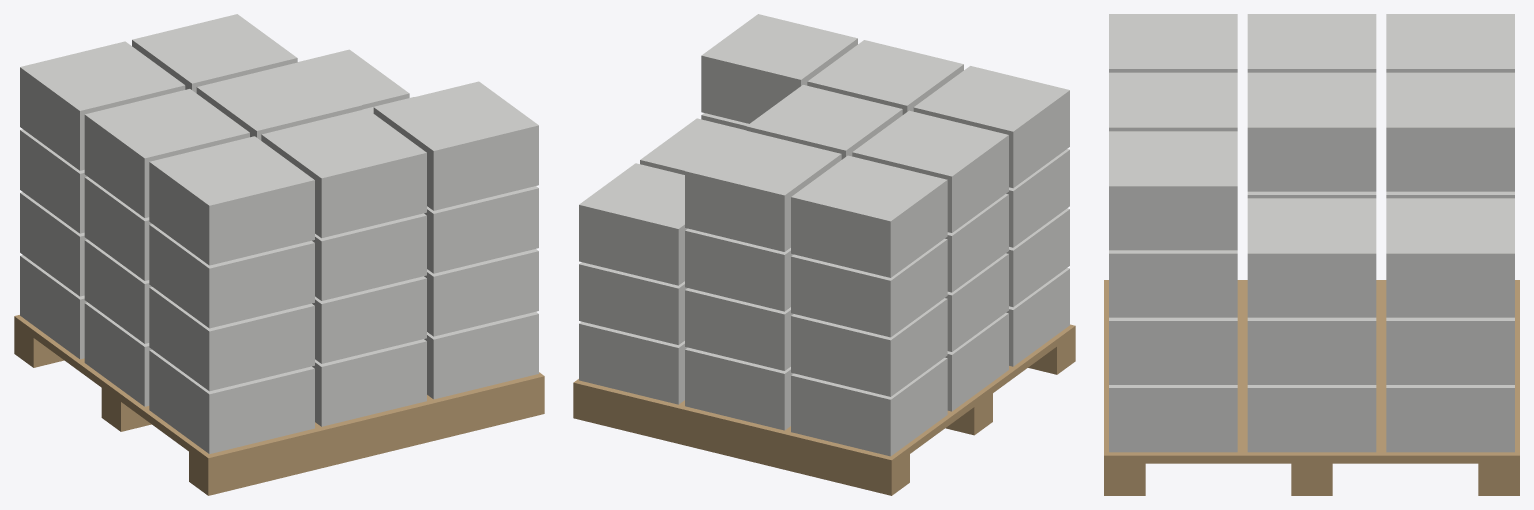
Rendered from pallet_mp_34.glb.
The picture shows the model from 3 angles, left to right: view 1: azimuth 30°, elevation 25°; view 2: azimuth 150°, elevation 25°; view 3: azimuth 270°, elevation 25°; orthographic projection. The views are drawn at different scales.
Parts seen in each view (by area): view 1: PalletMP; view 2: PalletMP; view 3: PalletMP.
Part boxes in pixels (x1,y1,x2,y2): PalletMP: (14, 14, 544, 495); PalletMP: (573, 14, 1075, 495); PalletMP: (1104, 14, 1519, 495).
Bounding box in the file's own units: 1 × 0.8171 × 1.
